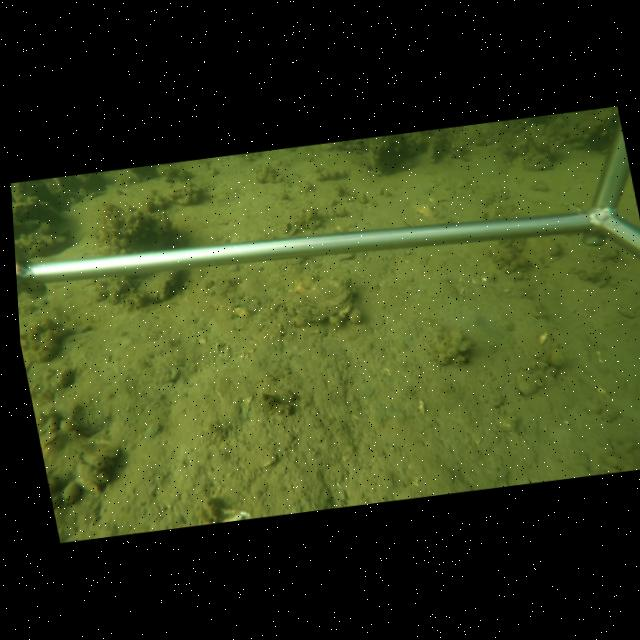Oyster-Closed: (289, 267, 355, 323), (131, 272, 185, 302)
Oyster-Indeterminate: (367, 139, 404, 175)
